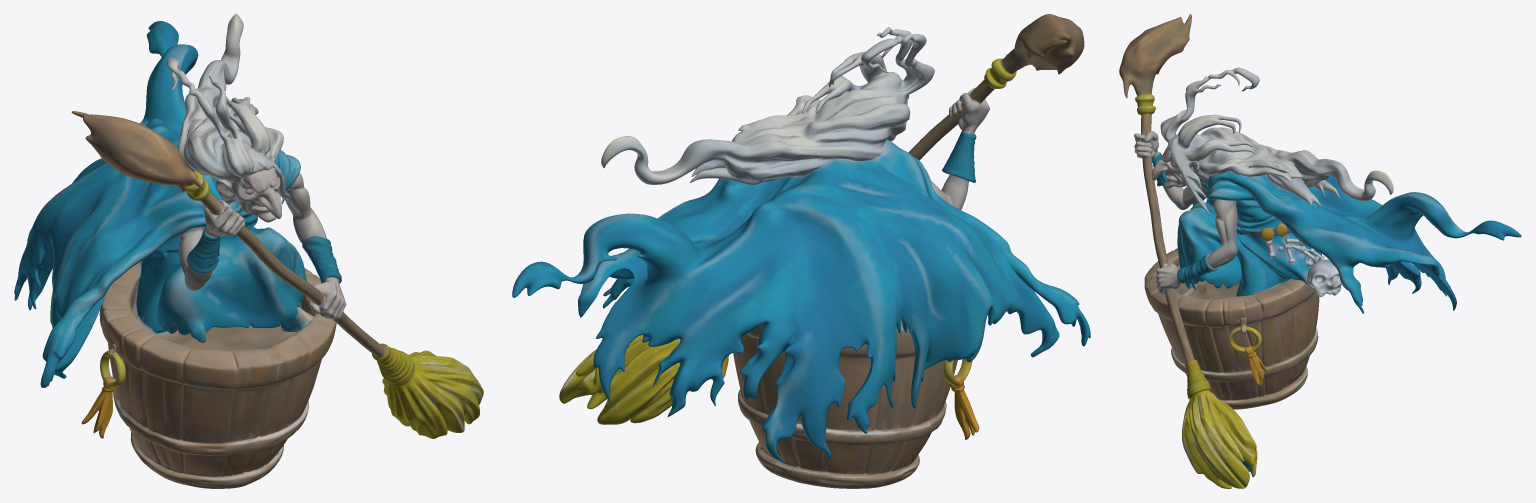
3 views of the same model, side by side, from view 1: azimuth 30°, elevation 25°; view 2: azimuth 150°, elevation 25°; view 3: azimuth 270°, elevation 25° (orthographic). The views are drawn at different scales.
Visible parts, largest first — view 1: Meshy_AI_Moonlit_Hag_on_a_Broomstick_20261120_texture001; view 2: Meshy_AI_Moonlit_Hag_on_a_Broomstick_20261120_texture001; view 3: Meshy_AI_Moonlit_Hag_on_a_Broomstick_20261120_texture001.
Boxes of the visible parts, <box> form: Meshy_AI_Moonlit_Hag_on_a_Broomstick_20261120_texture001: <box>14,14,483,488</box>; Meshy_AI_Moonlit_Hag_on_a_Broomstick_20261120_texture001: <box>512,14,1090,488</box>; Meshy_AI_Moonlit_Hag_on_a_Broomstick_20261120_texture001: <box>1119,14,1521,488</box>.
Bounding box in the file's own units: 0.019 × 0.0168 × 0.019.
